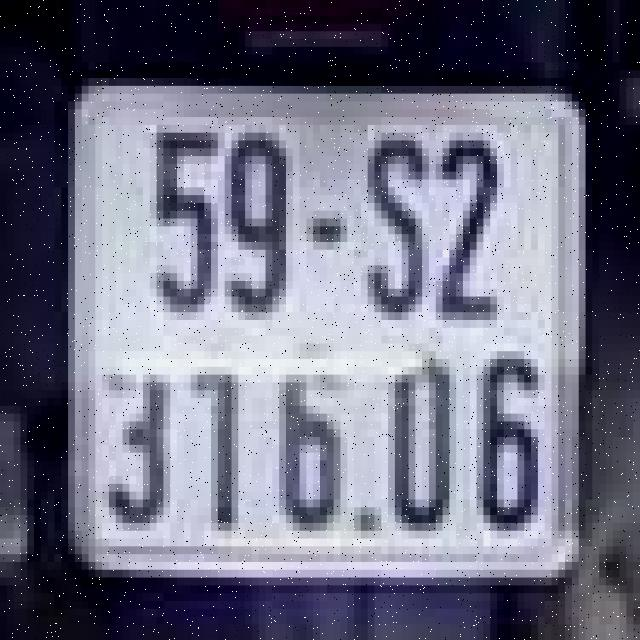0: (381, 344, 456, 554)
1: (194, 328, 255, 546)
2: (432, 132, 514, 328)
3: (105, 332, 167, 534)
5: (143, 113, 225, 324)
6: (272, 340, 361, 542), (463, 336, 545, 546)
9: (228, 121, 296, 324)
S: (354, 117, 429, 351)
